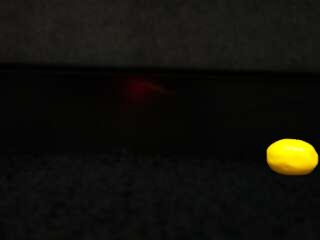Lemon: (267, 139, 318, 177)
